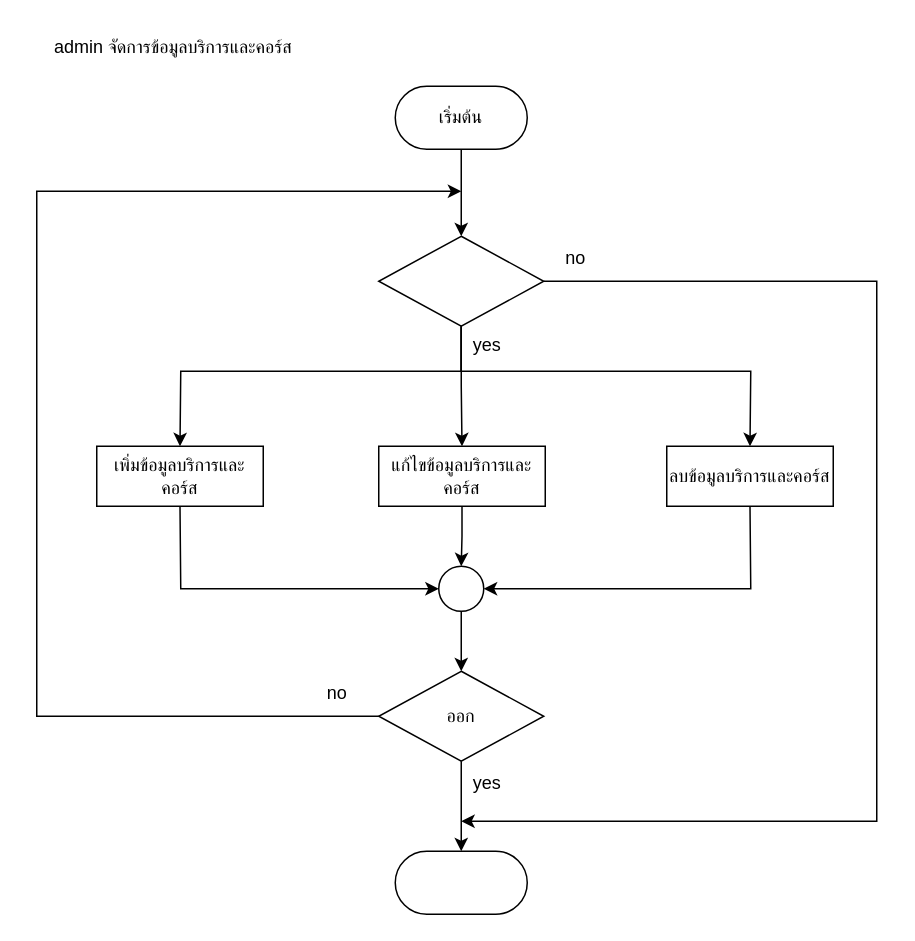
Some shapes in this 915 by 941 pixel diagram are drawn without their labels. The shapes that lost their labels are listed below. From the top down, each one's box as (x1, y1, x2, y2) in pixels, then its label:
(377, 235, 544, 326): จัดการข้อมูลบริการและคอร์ส
(394, 850, 527, 914): จบ
